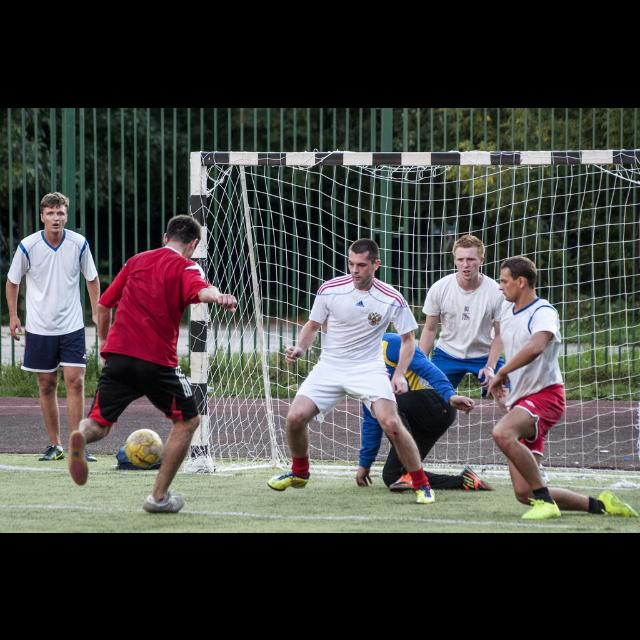Football: (121, 428, 159, 468)
